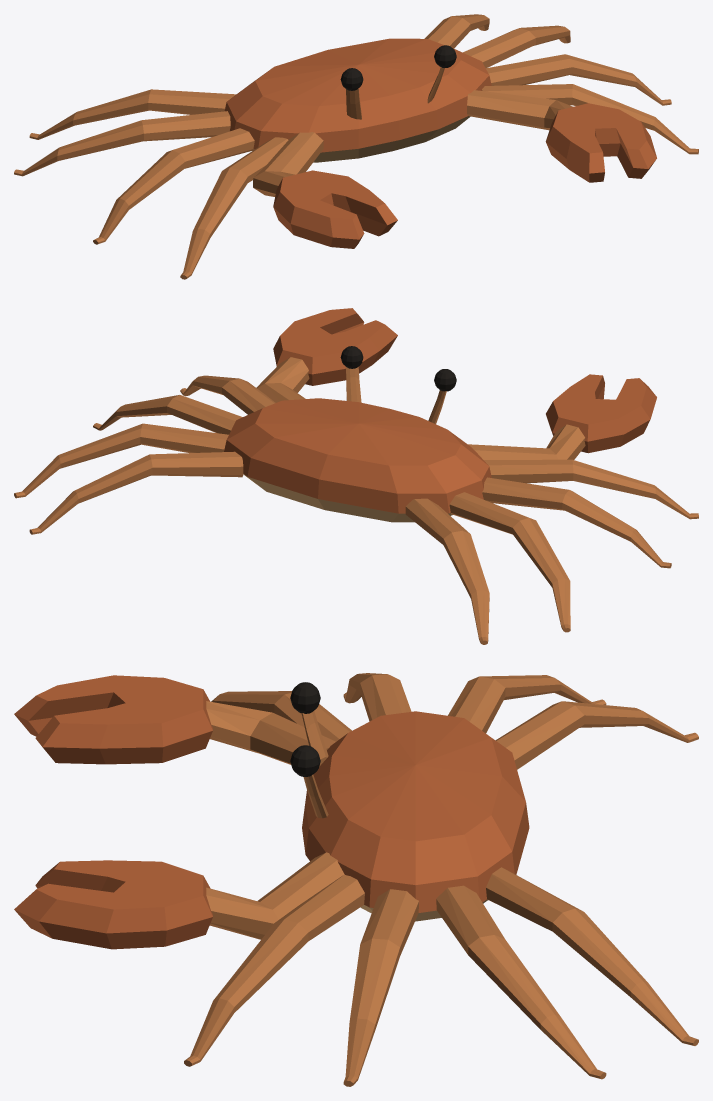
3 views of the same model, one above another, from view 1: azimuth 30°, elevation 25°; view 2: azimuth 150°, elevation 25°; view 3: azimuth 270°, elevation 25° (orthographic). The views are drawn at different scales.
Parts seen in each view (by area): view 1: BroadLowCarapaceAndSternum, LeftWholeOpenPincer, RightWholeOpenPincer, LeftRearMiddleWalkingLeg, LeftFrontMiddleWalkingLeg, LeftFrontWalkingLeg, LeftRearWalkingLeg, RightFrontMiddleWalkingLeg, RightClawArm, RightFrontWalkingLeg, LeftClawArm, RightRearMiddleWalkingLeg (+1 smaller); view 2: BroadLowCarapaceAndSternum, RightWholeOpenPincer, LeftWholeOpenPincer, RightRearWalkingLeg, LeftRearMiddleWalkingLeg, RightRearMiddleWalkingLeg, LeftRearWalkingLeg, LeftFrontMiddleWalkingLeg, LeftFrontWalkingLeg, RightFrontMiddleWalkingLeg, LeftClawArm, RightFrontWalkingLeg (+1 smaller); view 3: BroadLowCarapaceAndSternum, RightWholeOpenPincer, LeftWholeOpenPincer, RightFrontWalkingLeg, RightRearWalkingLeg, RightRearMiddleWalkingLeg, RightFrontMiddleWalkingLeg, LeftRearWalkingLeg, RightClawArm, LeftClawArm, LeftRearMiddleWalkingLeg, LeftFrontWalkingLeg (+4 smaller).
Boxes of the visible parts, x1,y1,x2,y2 form: BroadLowCarapaceAndSternum: (224,38,491,162); LeftWholeOpenPincer: (273,170,397,248); RightWholeOpenPincer: (545,103,656,182); LeftRearMiddleWalkingLeg: (14,111,230,176); LeftFrontMiddleWalkingLeg: (93,128,254,244); LeftFrontWalkingLeg: (180,137,288,279); LeftRearWalkingLeg: (29,89,235,139); RightFrontMiddleWalkingLeg: (486,54,671,105); RightClawArm: (467,90,572,130); RightFrontWalkingLeg: (482,84,698,154); LeftClawArm: (253,132,323,196); RightRearMiddleWalkingLeg: (463,25,570,68); BroadLowCarapaceAndSternum: (224,398,491,522); RightWholeOpenPincer: (273,308,397,385); LeftWholeOpenPincer: (546,374,656,453); RightRearWalkingLeg: (29,451,243,534); LeftRearMiddleWalkingLeg: (449,492,570,632); RightRearMiddleWalkingLeg: (14,423,228,498); LeftRearWalkingLeg: (405,498,489,644); LeftFrontMiddleWalkingLeg: (482,477,671,568); LeftFrontWalkingLeg: (484,459,698,519); RightFrontMiddleWalkingLeg: (93,395,242,434); LeftClawArm: (468,424,585,459); RightFrontWalkingLeg: (180,375,275,414); BroadLowCarapaceAndSternum: (302,711,529,921); RightWholeOpenPincer: (14,860,212,949); LeftWholeOpenPincer: (14,675,212,764); RightFrontWalkingLeg: (184,875,364,1066); RightRearWalkingLeg: (486,867,698,1045); RightRearMiddleWalkingLeg: (436,885,606,1079); RightFrontMiddleWalkingLeg: (343,889,418,1086); LeftRearWalkingLeg: (495,701,698,769); RightClawArm: (206,852,344,939); LeftClawArm: (206,701,335,764); LeftRearMiddleWalkingLeg: (448,675,606,733); LeftFrontWalkingLeg: (211,691,351,741).
Size of the model in its own units: 2.59 by 0.55 by 1.93.
